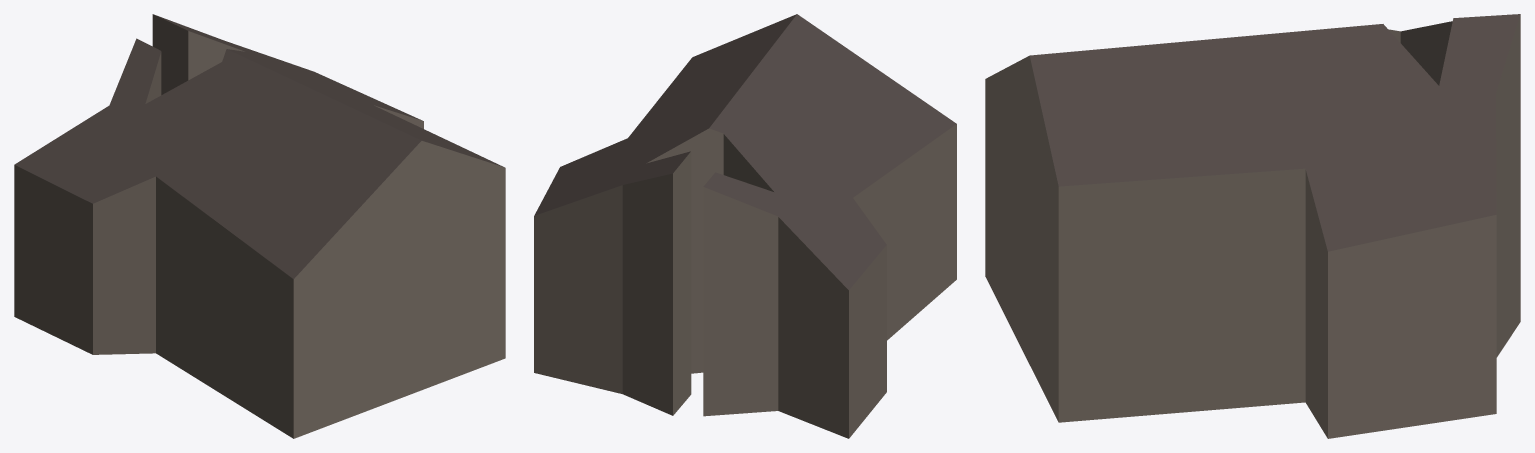
3 renders of one model, left to right at view 1: azimuth 30°, elevation 25°; view 2: azimuth 150°, elevation 25°; view 3: azimuth 270°, elevation 25°, orthographic. The views are drawn at different scales.
Parts seen in each view (by area): view 1: HP-w1516161949; view 2: HP-w1516161949; view 3: HP-w1516161949.
Part boxes in pixels (left/top/right/bottom): HP-w1516161949: left=14, top=14, right=505, bottom=438; HP-w1516161949: left=534, top=14, right=956, bottom=438; HP-w1516161949: left=985, top=14, right=1520, bottom=438.
Bounding box in the file's own units: 21.99 × 14.87 × 23.32.
